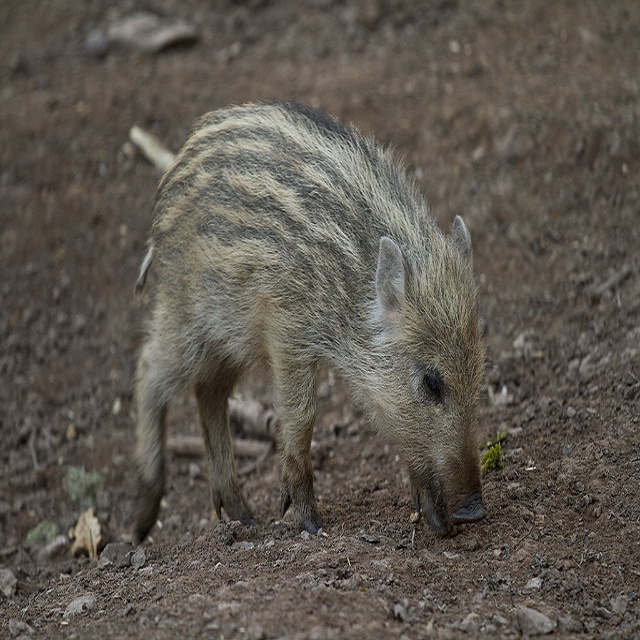Pig: (118, 95, 499, 553)
